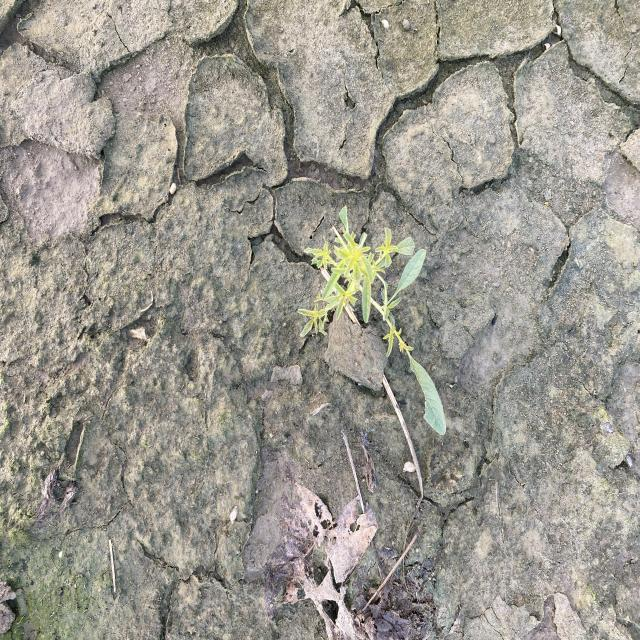Waterhemp: (296, 205, 447, 438)
